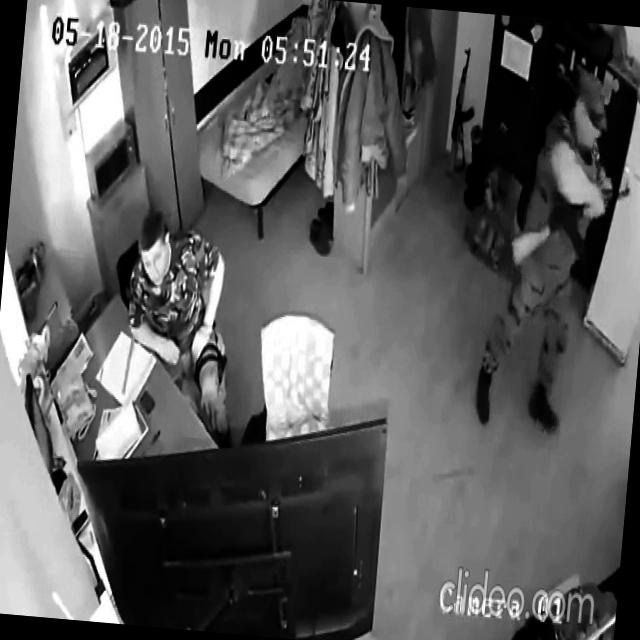gun: (507, 170, 632, 282), (443, 44, 482, 183)
person: (114, 205, 252, 450)
person with a gun: (471, 57, 640, 439)
